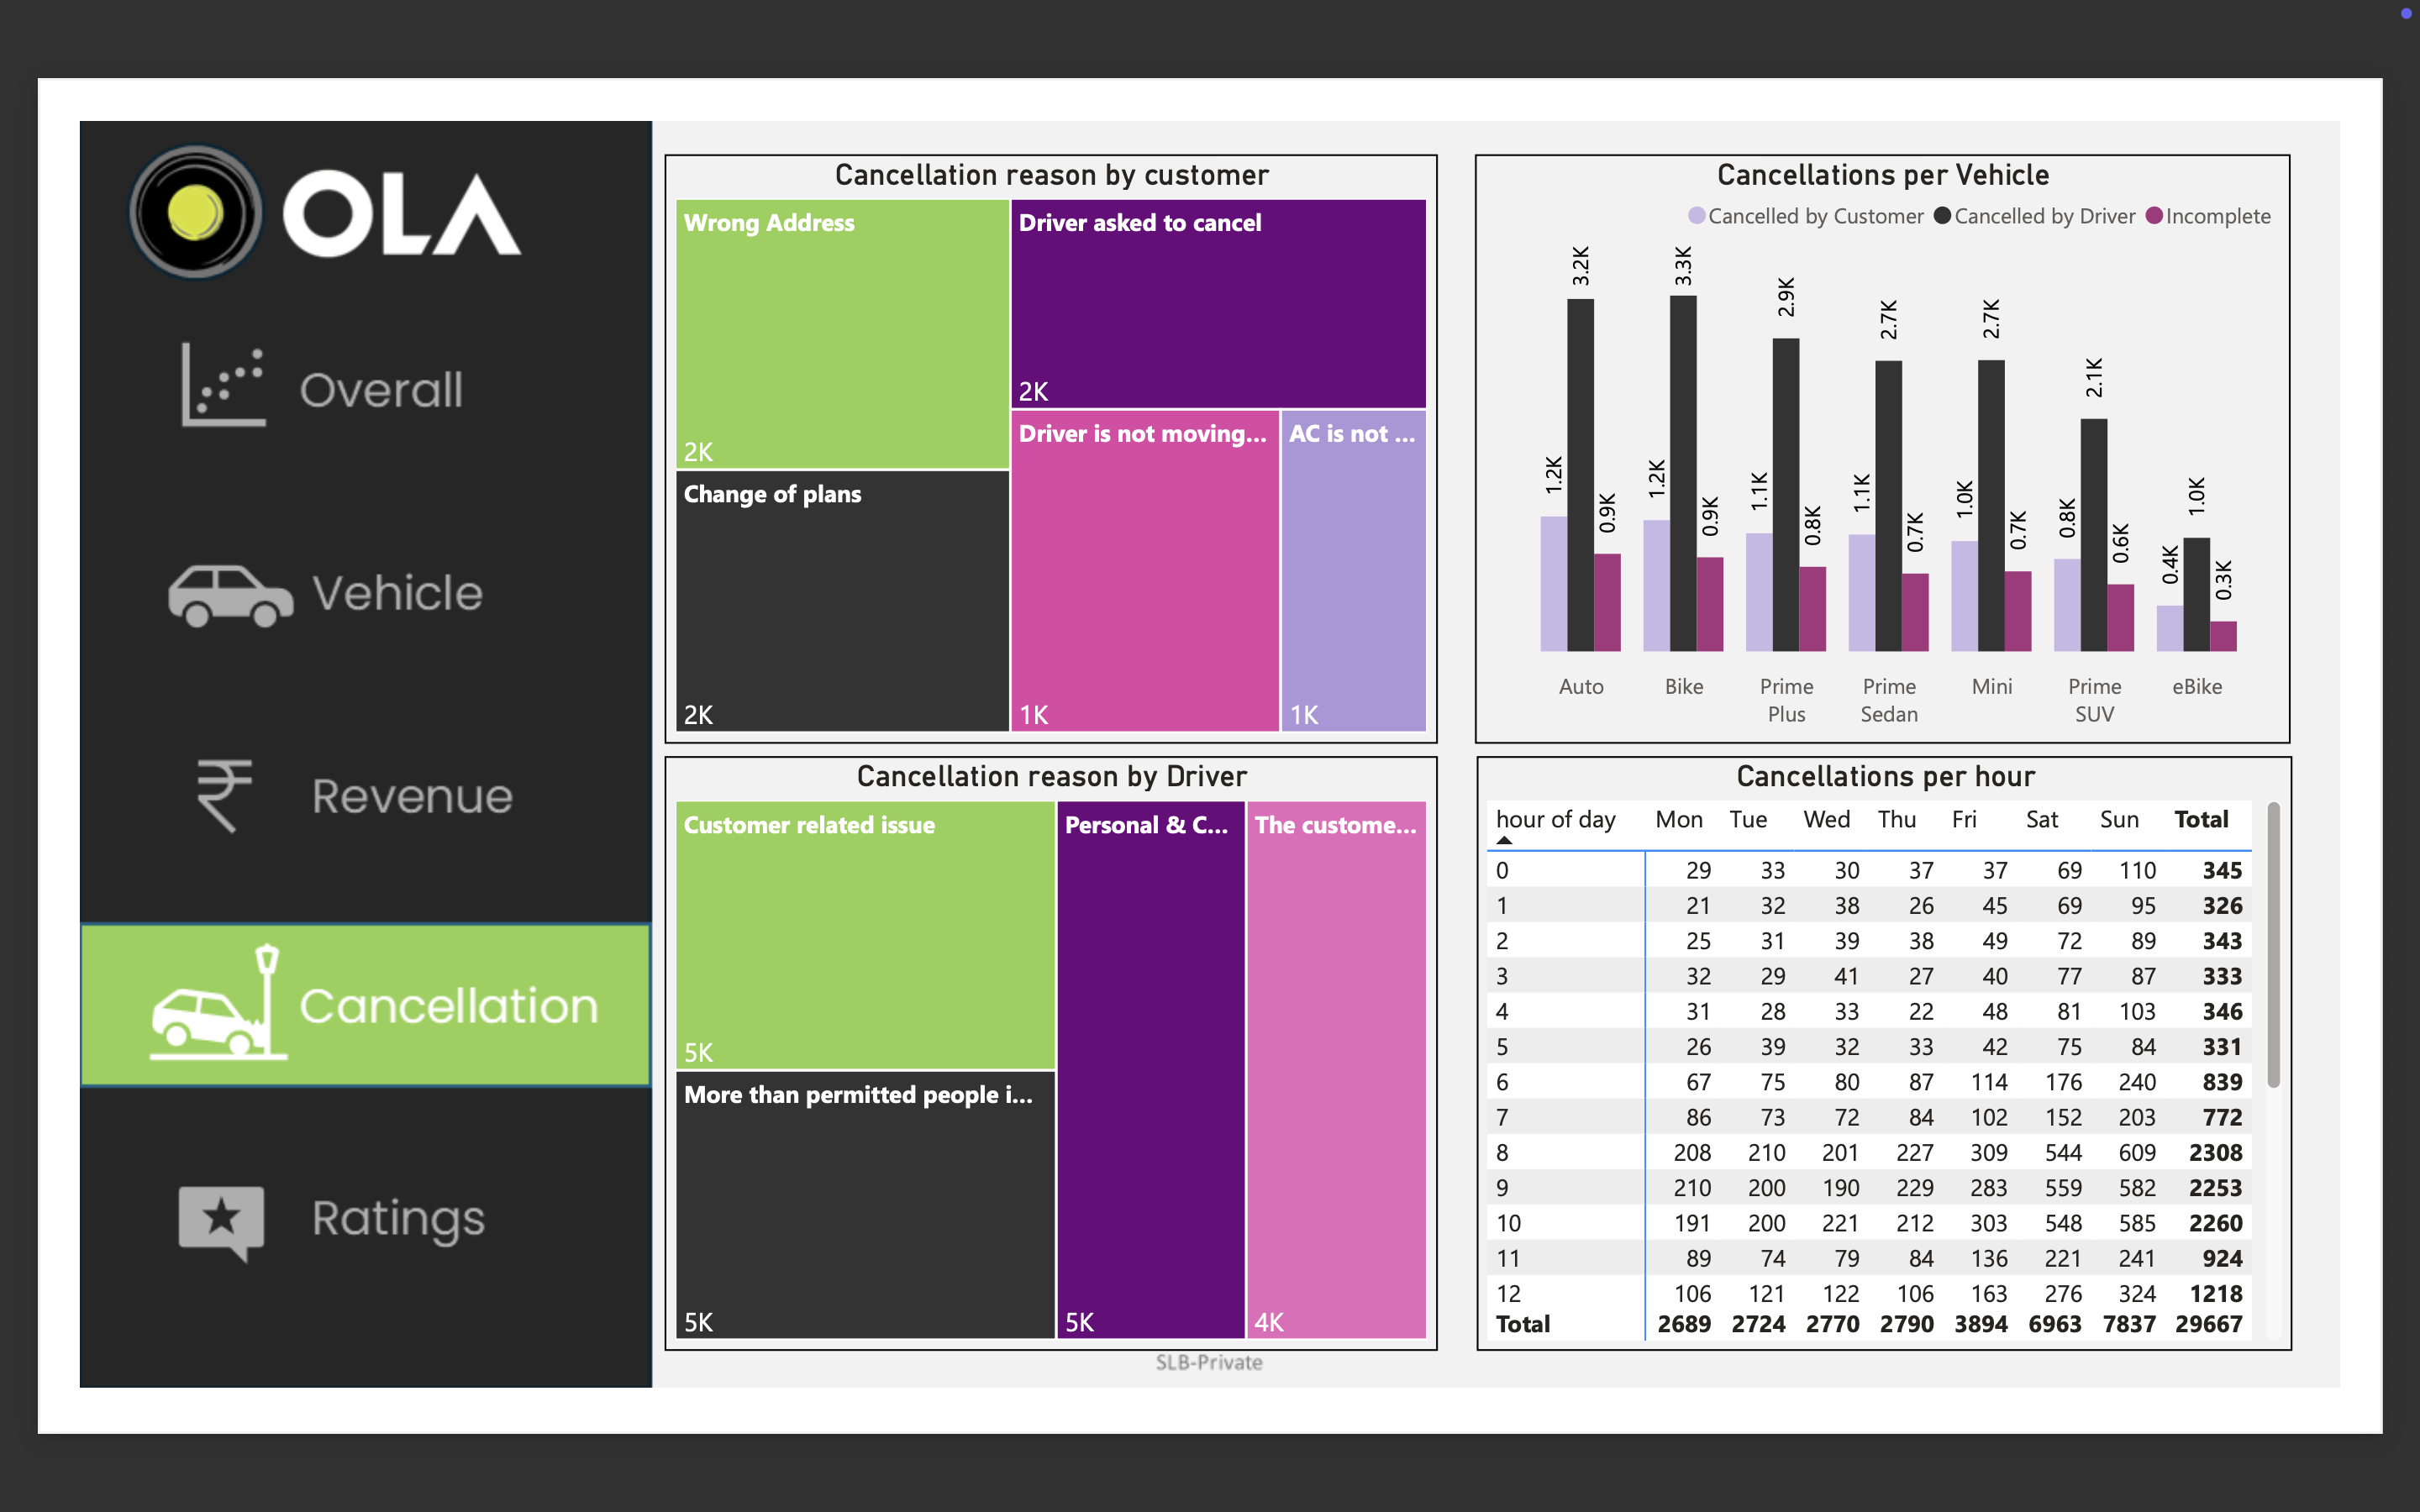

Layout of this report page (visuals, bound fields, positions):
{"tool":"powerbi","page":{"name":"Cancellation","canvas":[1280,720],"ordinal":3},"visuals":[{"type":"treemap","title":"Cancellation reason by customer","fields":{"Details":["bengaluru_rides_aug2025_100k.Reason for cancelling by Customer"],"Values":["Sum(bengaluru_rides_aug2025_100k.Cancelled Rides by Customer)"]},"box":[331,19,437.9,334.5],"z":0},{"type":"clusteredColumnChart","title":"Cancellations per Vehicle","fields":{"Category":["bengaluru_rides_aug2025_100k.Vehicle Type"],"Y":["CountNonNull(bengaluru_rides_aug2025_100k.Booking Status)"],"Series":["bengaluru_rides_aug2025_100k.Booking Status"]},"box":[789.7,19,462.1,334.5],"z":1000},{"type":"pivotTable","title":"Cancellations per hour","fields":{"Rows":["bengaluru_rides_aug2025_100k.hour of day"],"Values":["bengaluru_rides_aug2025_100k.total cancellations"],"Columns":["bengaluru_rides_aug2025_100k.day of week"]},"box":[791.4,360.3,462.1,336.2],"z":2000},{"type":"treemap","title":"Cancellation reason by Driver","fields":{"Values":["Sum(bengaluru_rides_aug2025_100k.Cancelled Rides by Driver)"],"Group":["bengaluru_rides_aug2025_100k.reason for cancelling by driver"]},"box":[331,360.3,437.9,336.2],"z":3000},{"type":"actionButton","box":[0,221.1,325,90.7],"z":4000},{"type":"actionButton","box":[0,105.8,325,90.7],"z":5000},{"type":"actionButton","box":[0,334.5,325,90.7],"z":6000},{"type":"actionButton","box":[0,453.5,325,90.7],"z":7000},{"type":"actionButton","box":[0,578.3,325,90.7],"z":8000}]}

Visuals, with their boxes on the page's 1280x720 design canvas (x1, y1, x2, y2). These are canvas units, not pixel positions in the 2420x1512 screenshot, which may show the page scaled, cropped or inside an application window:
"Cancellation reason by customer" treemap: left=331, top=19, right=769, bottom=354
"Cancellations per Vehicle" clusteredColumnChart: left=790, top=19, right=1252, bottom=354
"Cancellations per hour" pivotTable: left=791, top=360, right=1254, bottom=696
"Cancellation reason by Driver" treemap: left=331, top=360, right=769, bottom=696
actionButton: left=0, top=221, right=325, bottom=312
actionButton: left=0, top=106, right=325, bottom=196
actionButton: left=0, top=334, right=325, bottom=425
actionButton: left=0, top=454, right=325, bottom=544
actionButton: left=0, top=578, right=325, bottom=669
